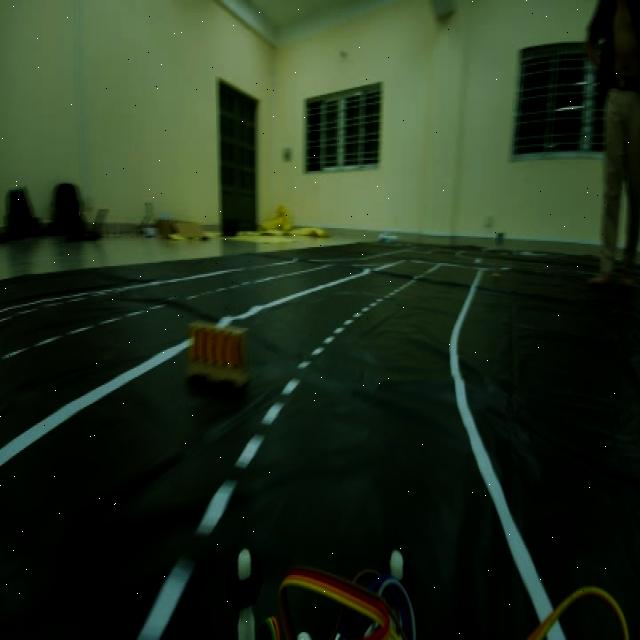roadblock: (180, 306, 248, 396)
